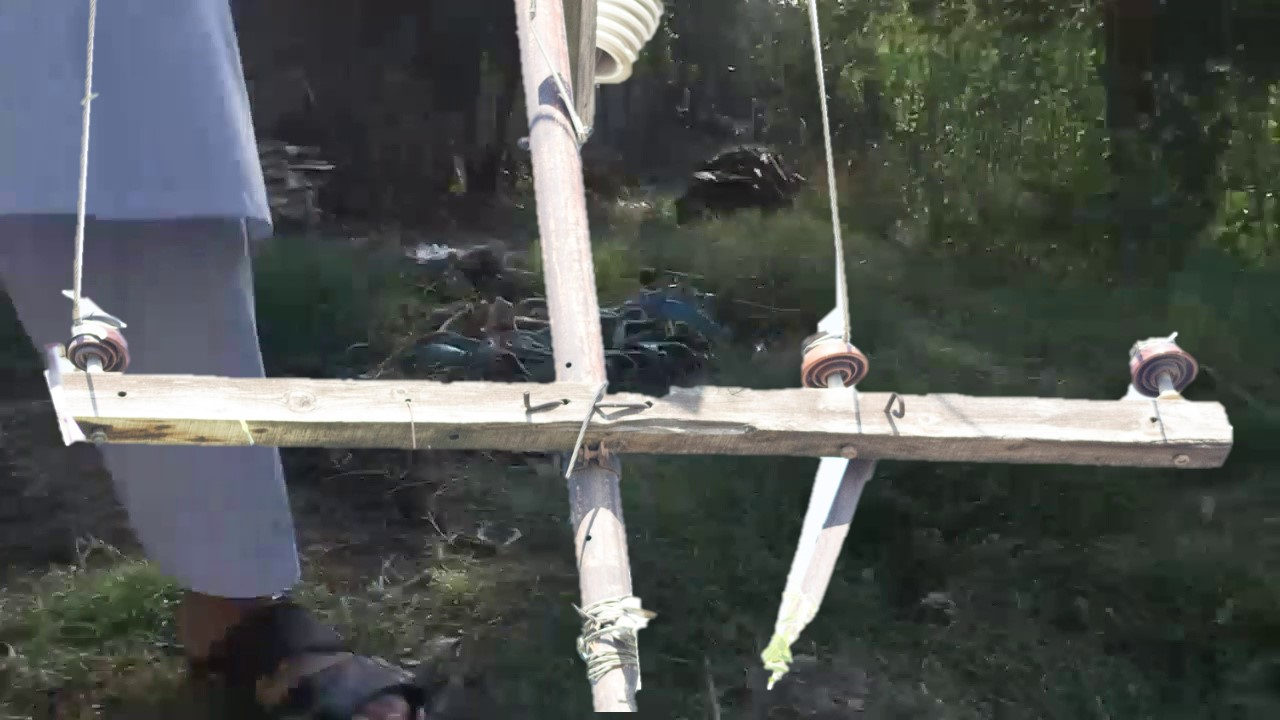defect_pin: (61, 305, 135, 375)
insulator_pin: (796, 321, 876, 393), (1120, 331, 1202, 399)
